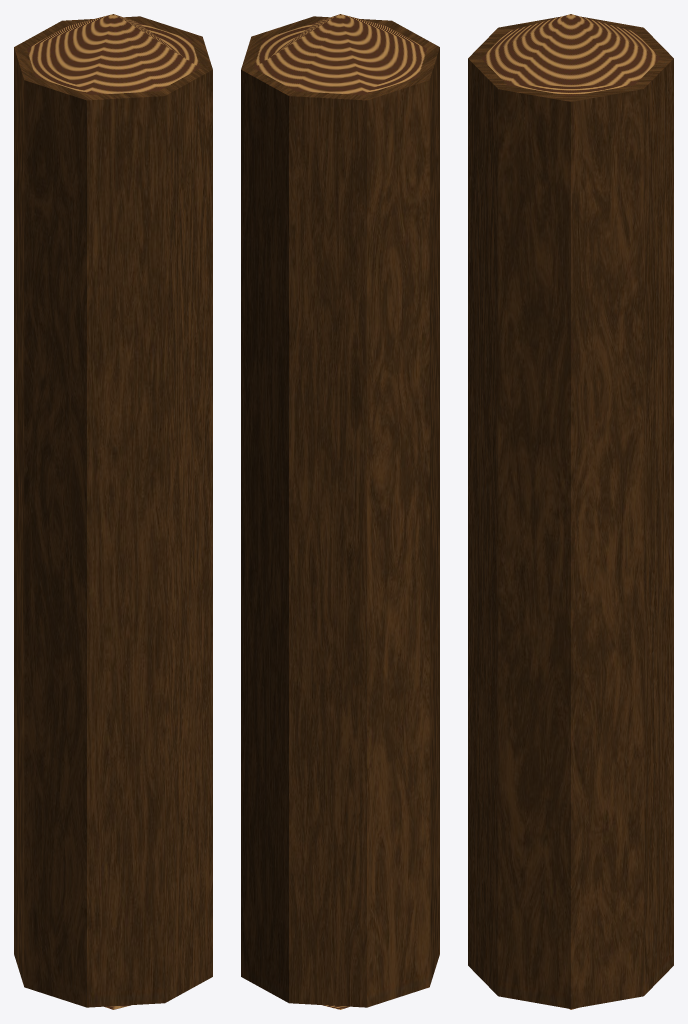
Rendered from WoodPillar.fbx.
3 views of the same model, side by side, from view 1: azimuth 30°, elevation 25°; view 2: azimuth 150°, elevation 25°; view 3: azimuth 270°, elevation 25° (orthographic).
Visible parts, largest first — view 1: WoodPillar_Baked; view 2: WoodPillar_Baked; view 3: WoodPillar_Baked.
Boxes of the visible parts, x1,y1,x2,y2 form: WoodPillar_Baked: (14, 14, 212, 1009); WoodPillar_Baked: (241, 14, 439, 1009); WoodPillar_Baked: (468, 14, 673, 1009).
Bounding box in the file's own units: 200 × 1067 × 200.
1 material, 1 textured.
